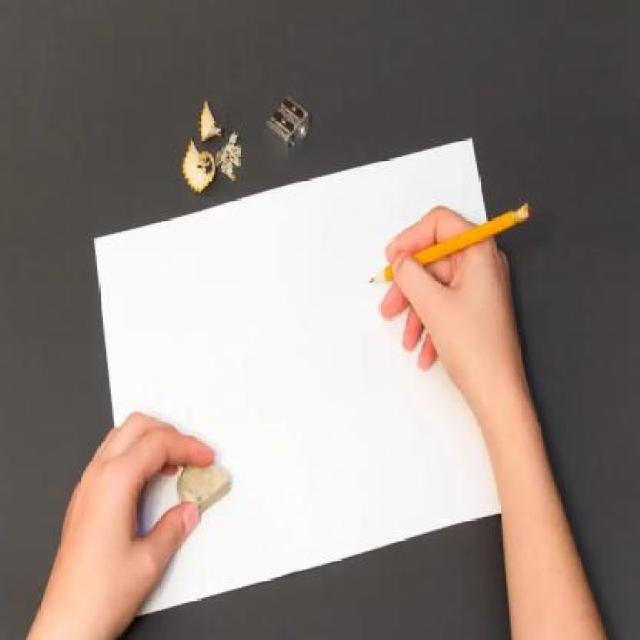pencil: (366, 197, 537, 290)
